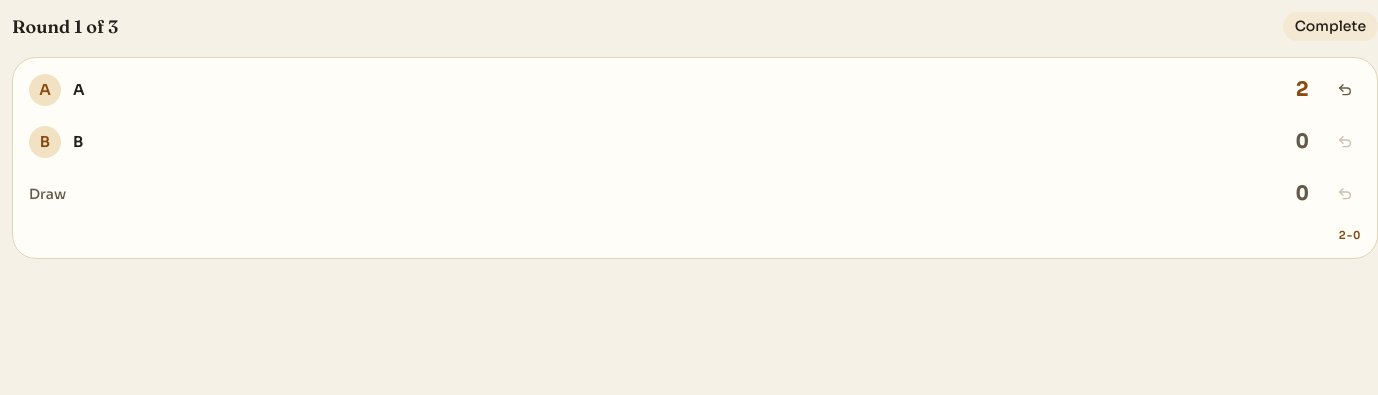
Test: the re-pair banner › appears after a result edit on a round with later rounds
Step 1. Click the button named "Remove a game win for A" → point(1345, 90), box [1321,66,1369,114]
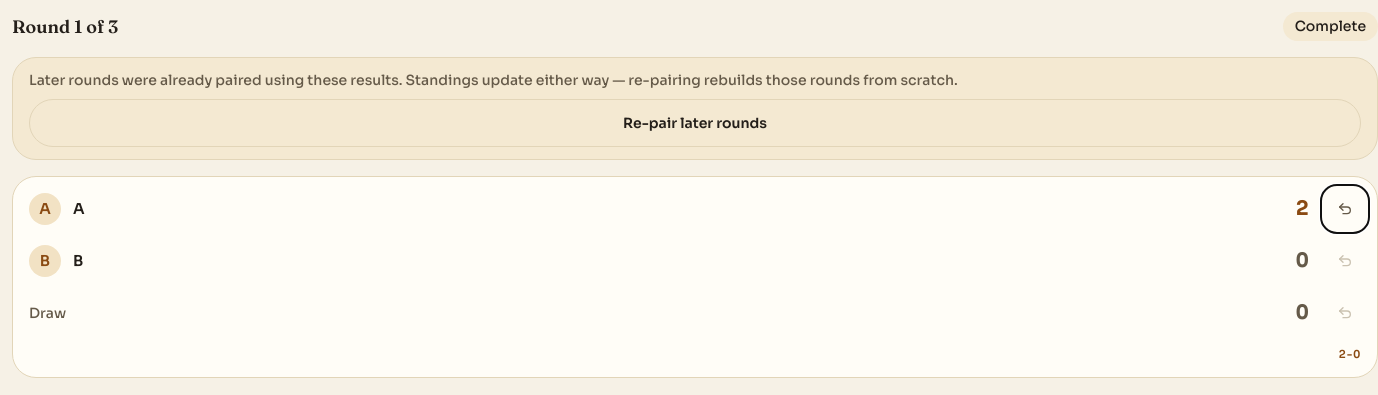
Expected: the message shows "Later rounds were already paired", [29,71,958,89]
Expected: the button "Re-pair later rounds" is shown, [29,99,1361,147]
